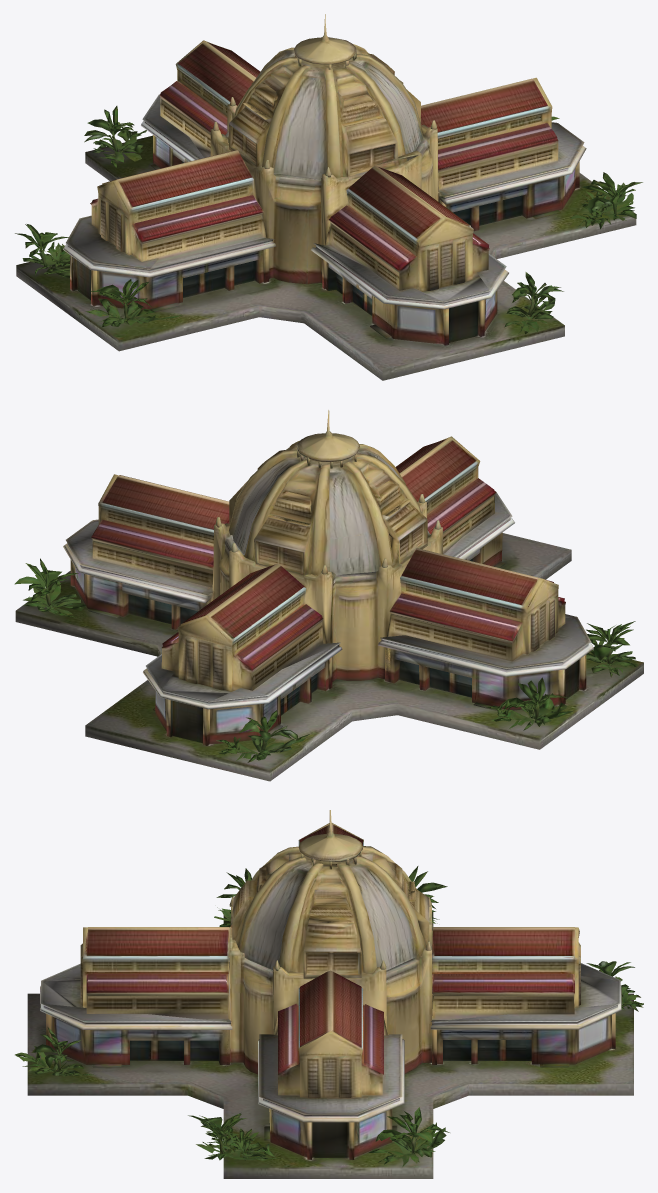
File: lm_pp_market.glb
3 views of the same model, one above another, from view 1: azimuth 30°, elevation 25°; view 2: azimuth 150°, elevation 25°; view 3: azimuth 270°, elevation 25° (orthographic).
Visible parts, largest first — view 1: Body; view 2: Body; view 3: Body.
Boxes of the visible parts, box(x1,y1,x2,y2) form: Body: box(15, 14, 642, 380); Body: box(14, 410, 643, 781); Body: box(15, 810, 643, 1178).
Bounding box in the file's own units: 40 × 16.83 × 40.
1 material, 1 textured.
